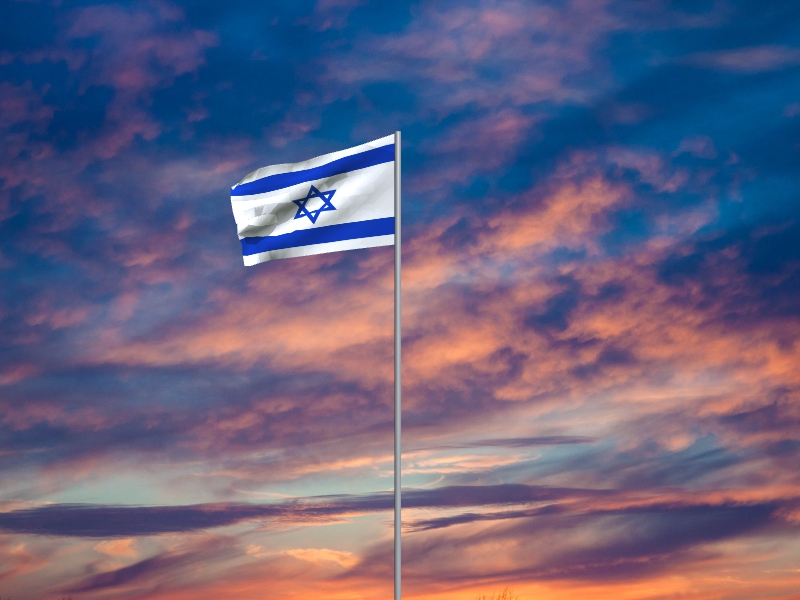il: (230, 134, 395, 268)
